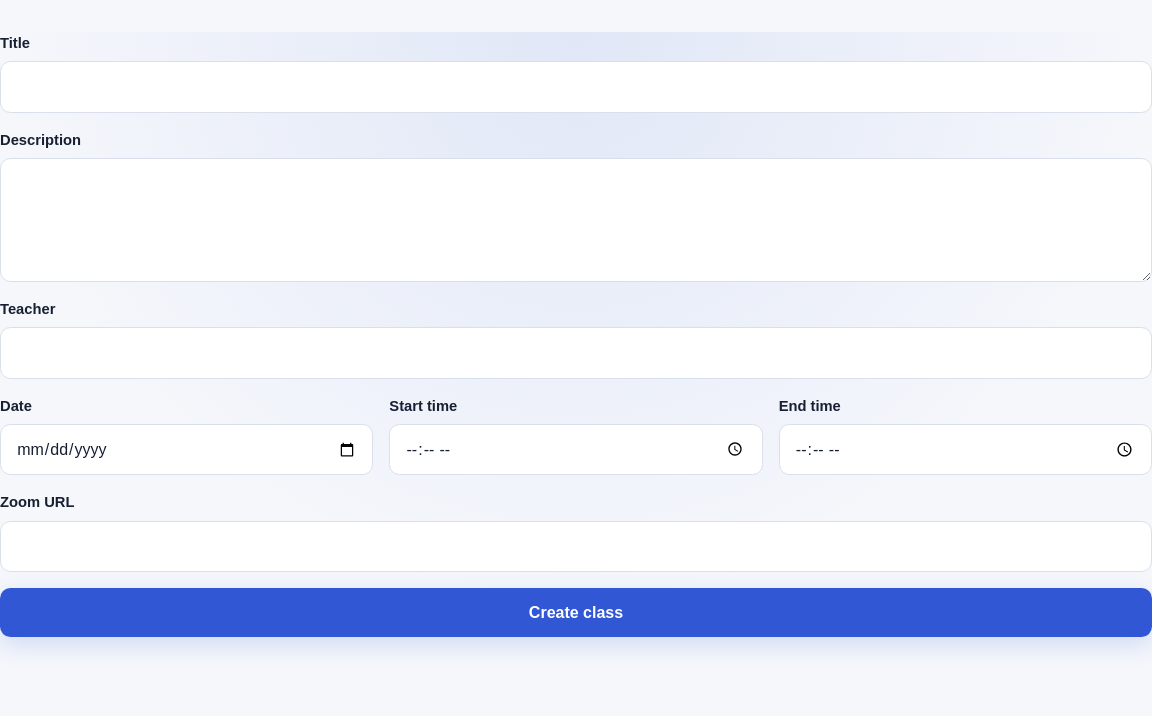
Test: ClassForm › preserves submitted values, focuses an announced summary, and renders field errors
The image size is (1152, 716).
Type "Intro Music" into the field labelled "Title" at (576, 87), box [0, 61, 1151, 113]
Type "Nina Simone" into the field labelled "Teacher" at (576, 353), box [0, 327, 1151, 379]
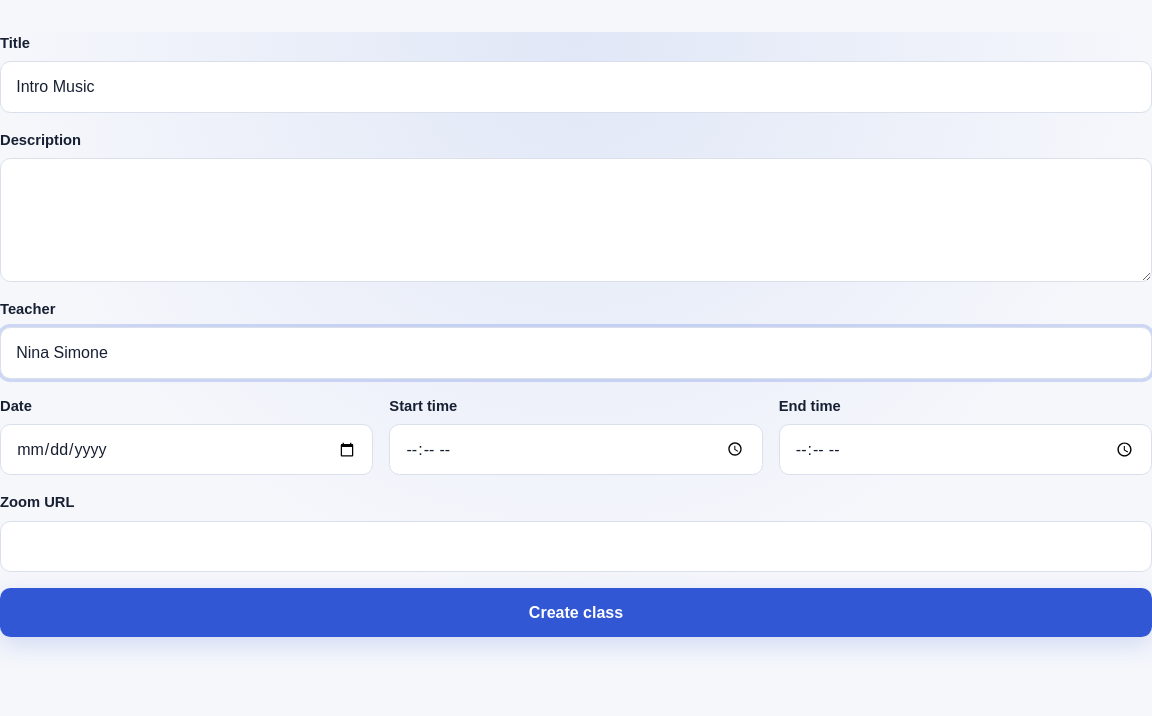
Type "2026-07-01" into the date field labelled "Date" at (187, 450), box [0, 424, 373, 475]
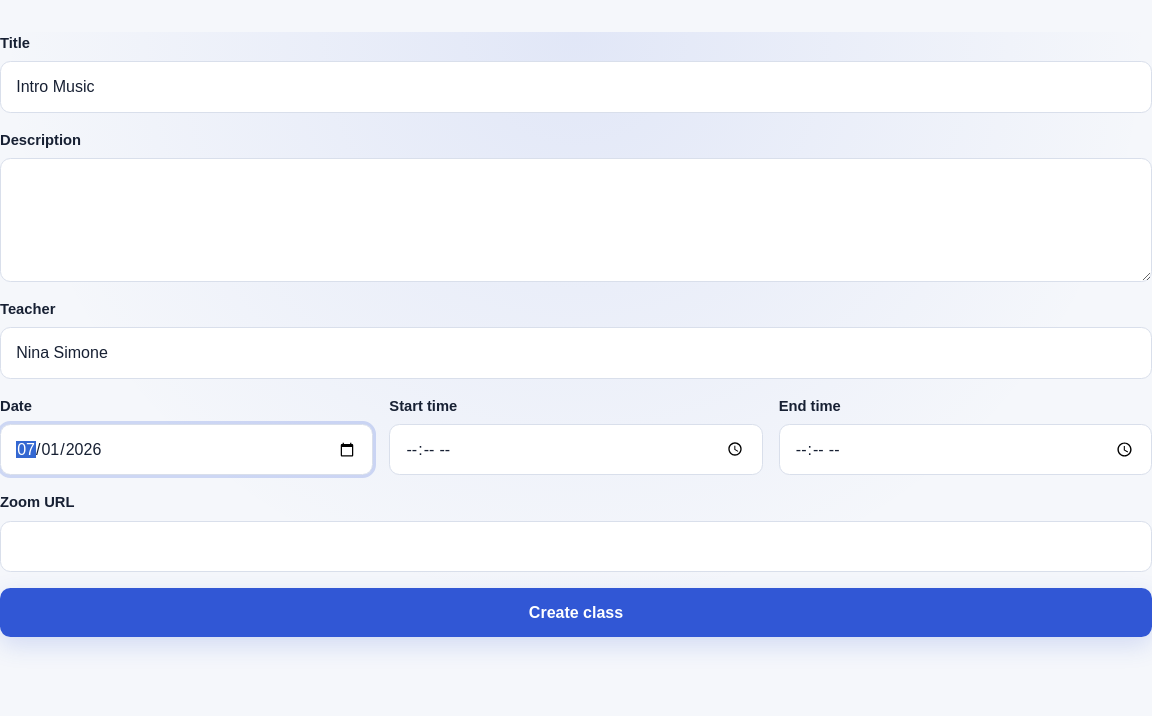
Type "16:00" into the time field labelled "Start time" at (576, 450), box [389, 424, 763, 475]
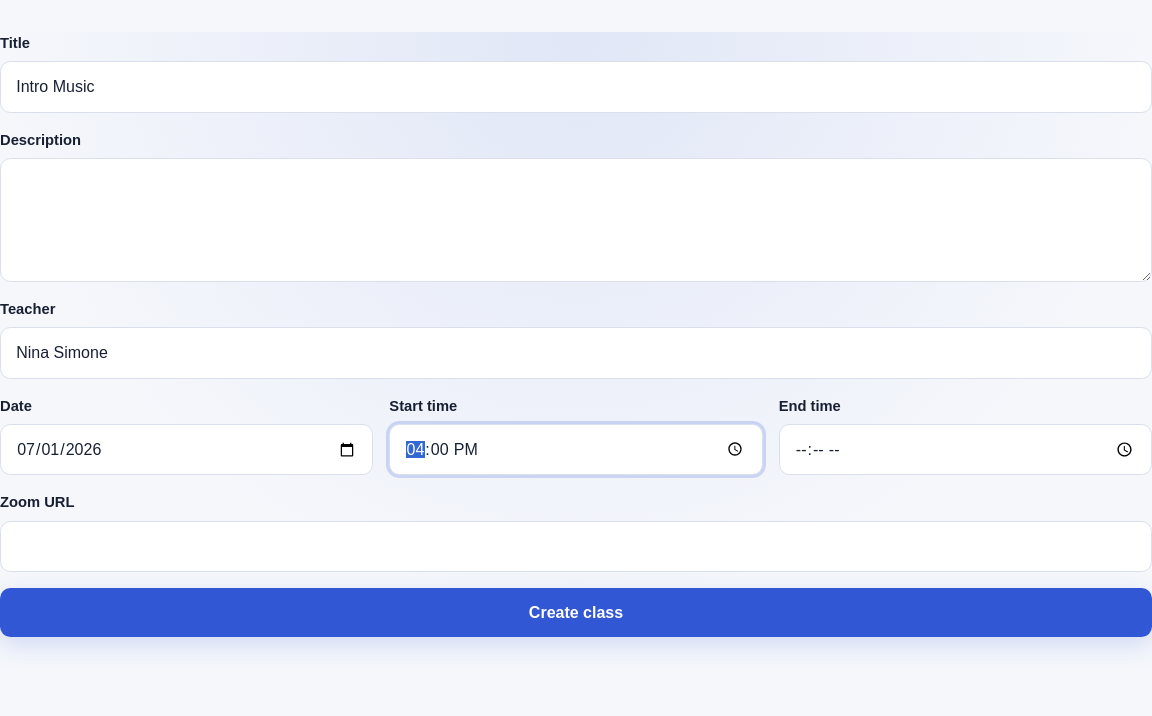
Type "17:00" into the time field labelled "End time" at (965, 450), box [779, 424, 1151, 475]
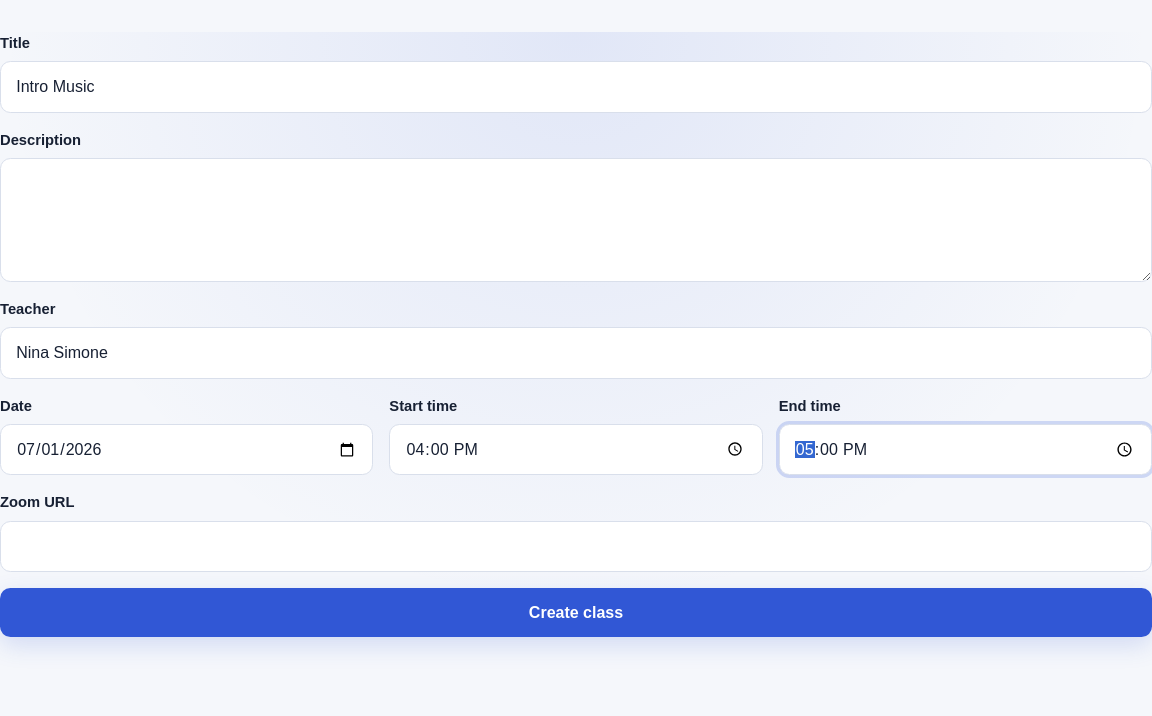
Type "https://evil.example" into the field labelled "Zoom URL" at (576, 546), box [0, 521, 1151, 572]
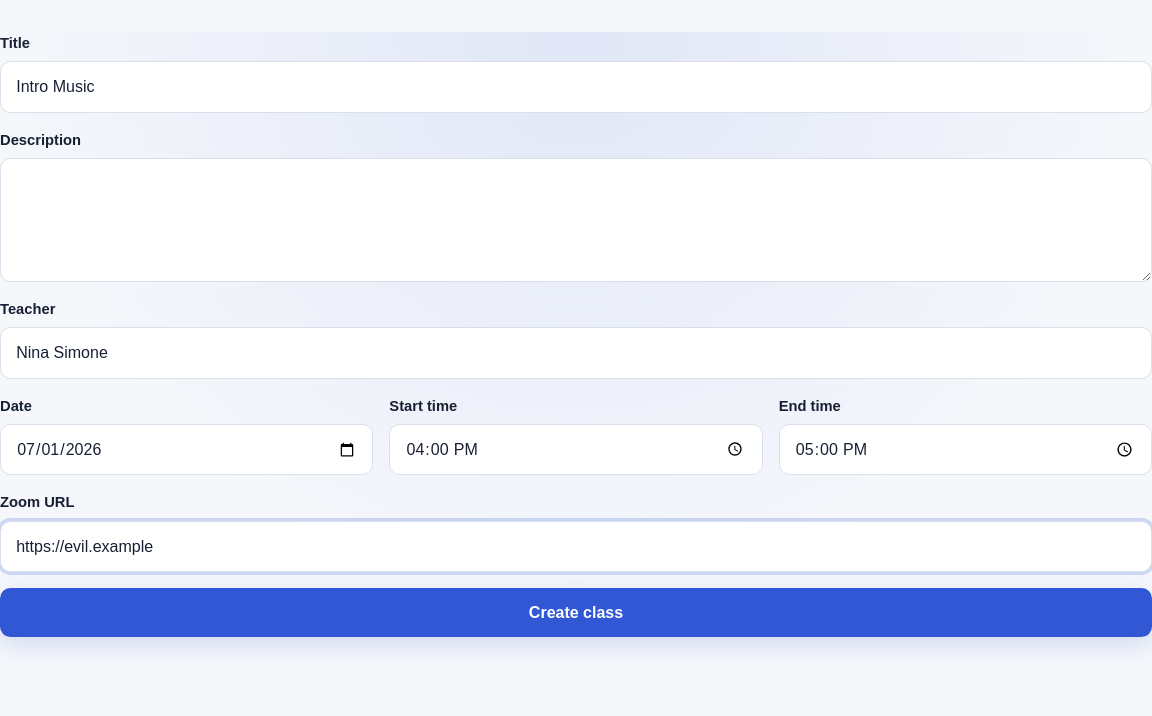
Click the button "Create class" at (576, 613), box [0, 588, 1151, 637]
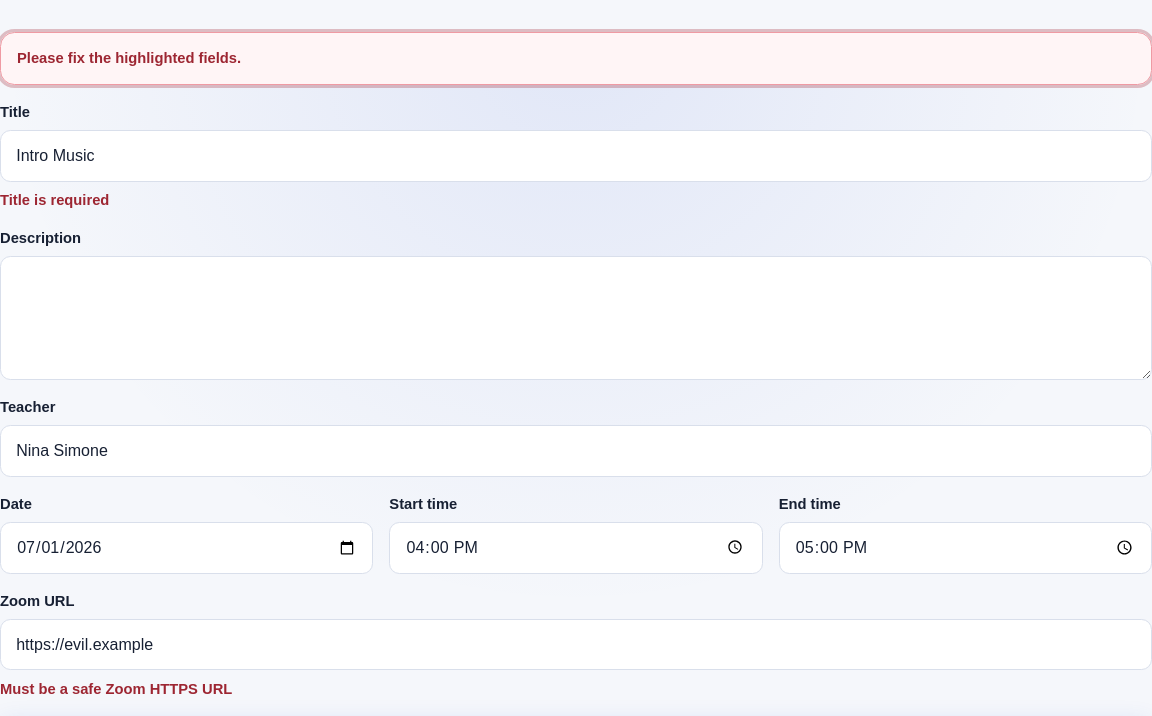
Check: the message reads "Please fix the highlighted fields.", box [17, 50, 241, 66]
Check: the text "Title is required" is shown, box [0, 192, 109, 208]
Check: the text "Must be a safe Zoom HTTPS URL" is shown, box [0, 681, 232, 697]
